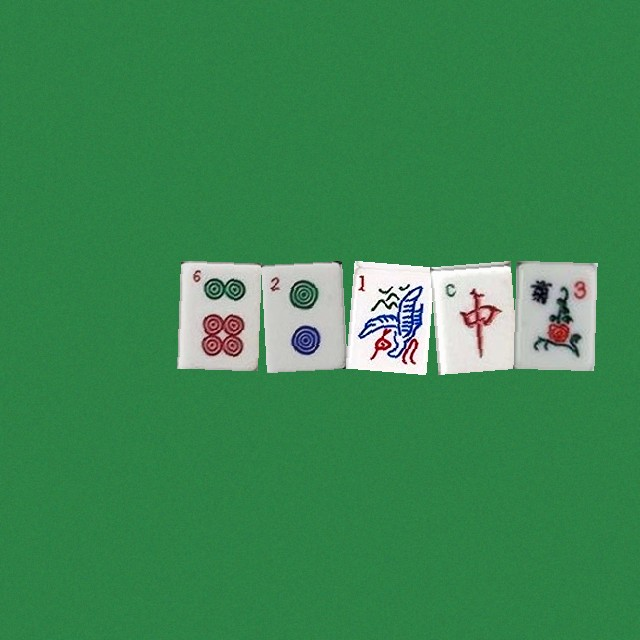tile: (177, 260, 258, 368), (261, 260, 342, 368), (345, 260, 426, 368), (429, 260, 510, 368), (513, 260, 594, 368)
